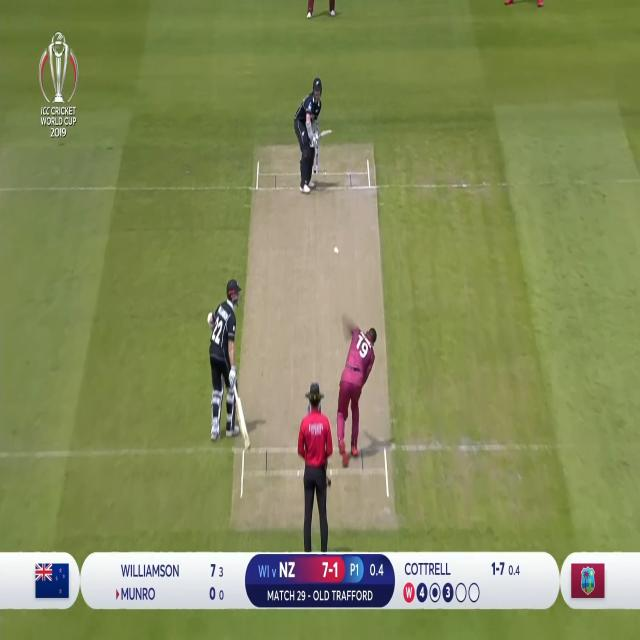ball: (332, 242, 341, 262)
